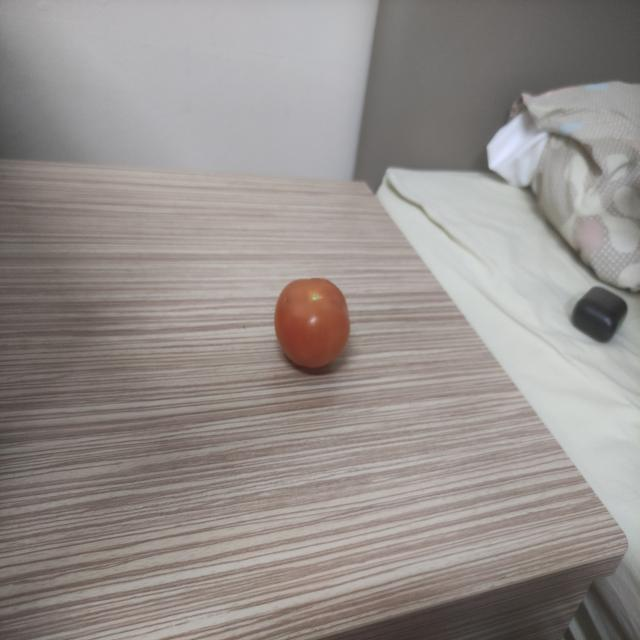sari: (264, 264, 362, 379)
